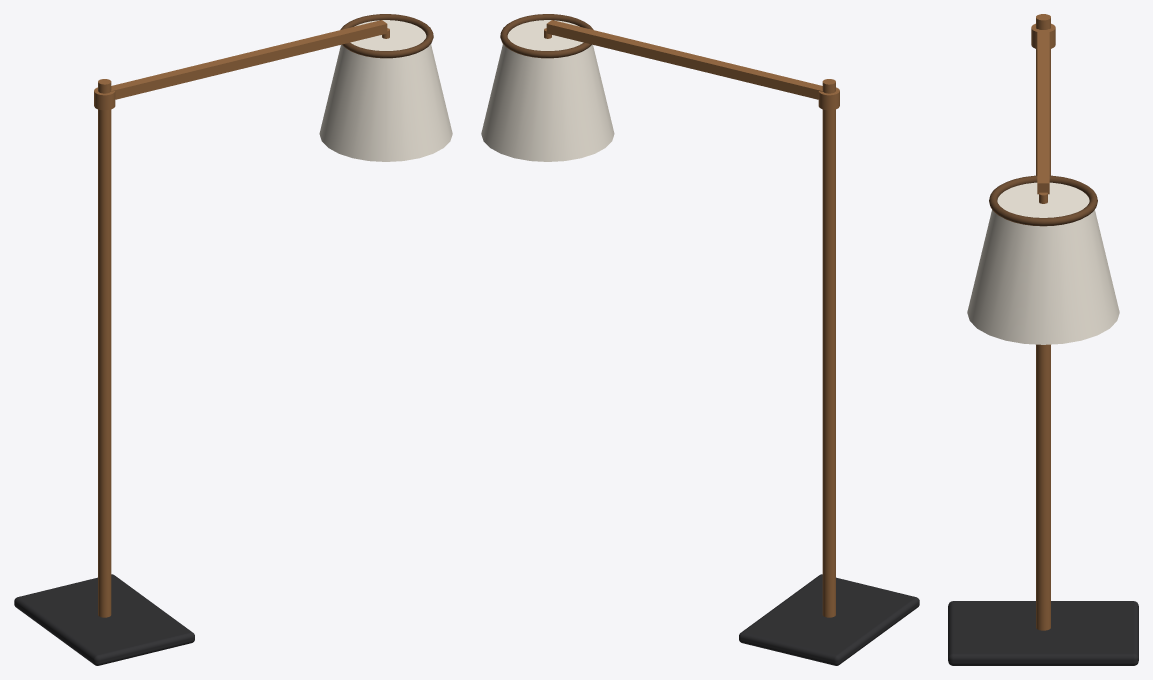
The model's file is floorlamp.glb.
3 views of the same model, side by side, from view 1: azimuth 30°, elevation 25°; view 2: azimuth 150°, elevation 25°; view 3: azimuth 270°, elevation 25° (orthographic). The views are drawn at different scales.
Visible parts, largest first — view 1: material-3-lit, material-1-metal, material-0-base, material-2-trim; view 2: material-3-lit, material-1-metal, material-0-base, material-2-trim; view 3: material-3-lit, material-0-base, material-1-metal, material-2-trim.
Boxes of the visible parts, left/top/right/bottom form: material-3-lit: left=319, top=20, right=452, bottom=161; material-1-metal: left=94, top=20, right=389, bottom=617; material-0-base: left=14, top=574, right=194, bottom=665; material-2-trim: left=340, top=14, right=433, bottom=58; material-3-lit: left=481, top=20, right=614, bottom=161; material-1-metal: left=544, top=20, right=839, bottom=617; material-0-base: left=739, top=574, right=919, bottom=665; material-2-trim: left=500, top=14, right=593, bottom=58; material-3-lit: left=967, top=182, right=1119, bottom=344; material-0-base: left=948, top=601, right=1138, bottom=665; material-1-metal: left=1031, top=14, right=1055, bottom=630; material-2-trim: left=989, top=175, right=1097, bottom=226.
Size of the model in its own units: 1.35 by 1.8 by 0.5.
